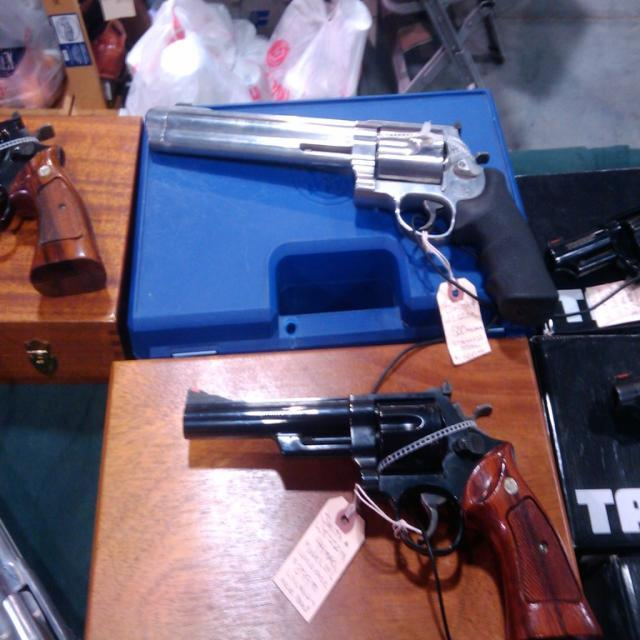Gun: (184, 389, 599, 640), (148, 106, 556, 326), (0, 115, 106, 296)
